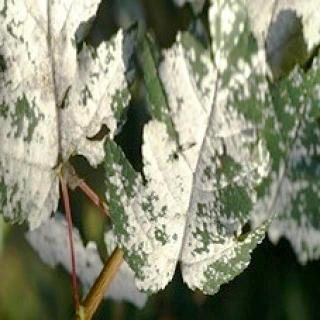grey mildew: (144, 20, 292, 218), (5, 10, 121, 184)
